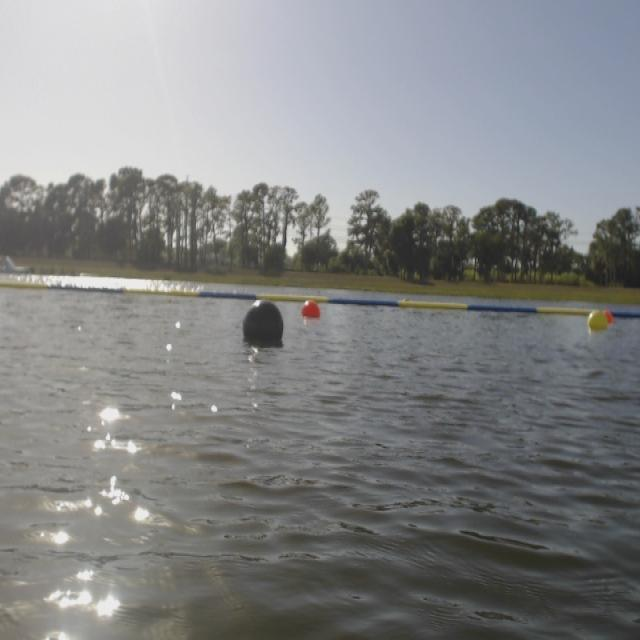Black_Buoy: (230, 290, 289, 361)
Orange__Buoy: (299, 298, 325, 318)
